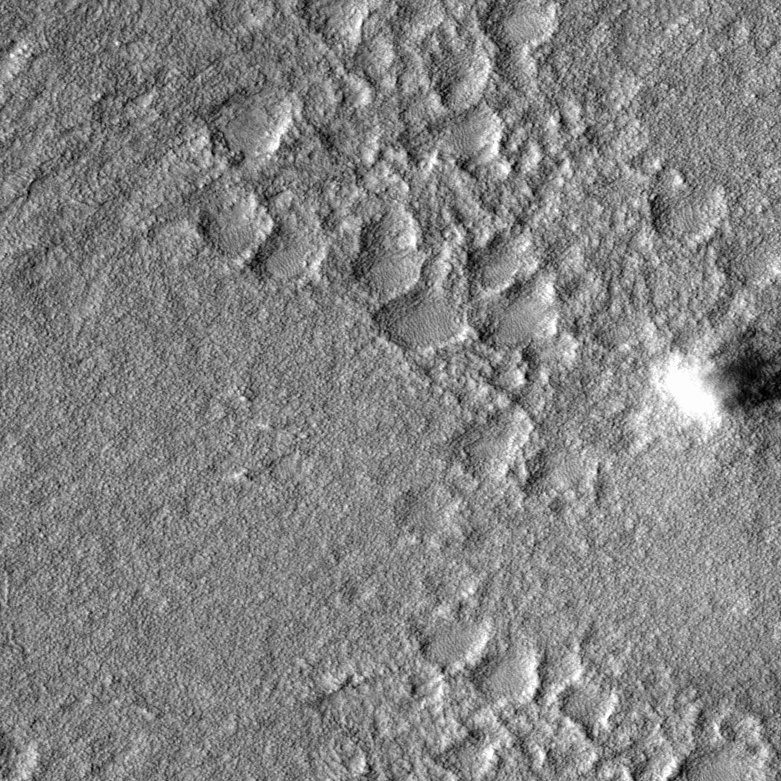dust_devil: (649, 330, 781, 443)
